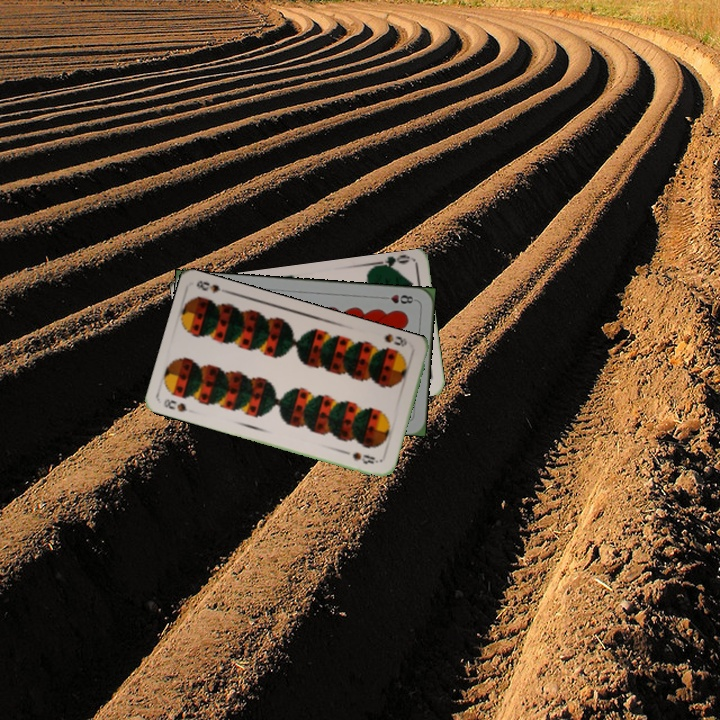GO: (372, 253, 412, 274)
H8: (378, 290, 418, 306)
S8: (159, 395, 190, 414), (380, 330, 410, 349)
